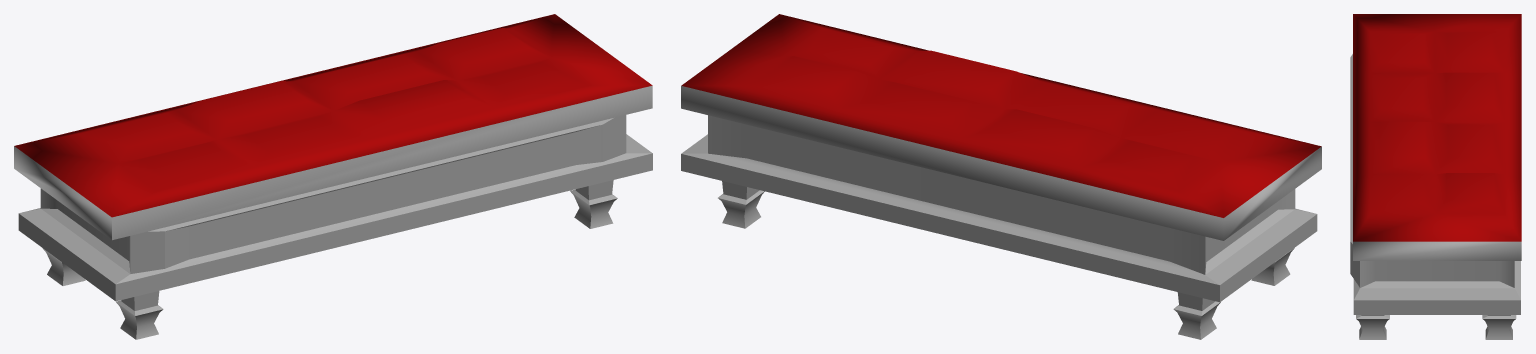
The model's file is FancyBench.fbx.
The picture shows the model from 3 angles, left to right: view 1: azimuth 30°, elevation 25°; view 2: azimuth 150°, elevation 25°; view 3: azimuth 270°, elevation 25°; orthographic projection. The views are drawn at different scales.
Parts seen in each view (by area): view 1: polySurface1; view 2: polySurface1; view 3: polySurface1.
Boxes of the visible parts, <box> form: polySurface1: <box>14,14,652,339</box>; polySurface1: <box>681,14,1321,339</box>; polySurface1: <box>1350,14,1521,339</box>.
Size of the model in its own units: 10.56 by 2.75 by 3.36.
